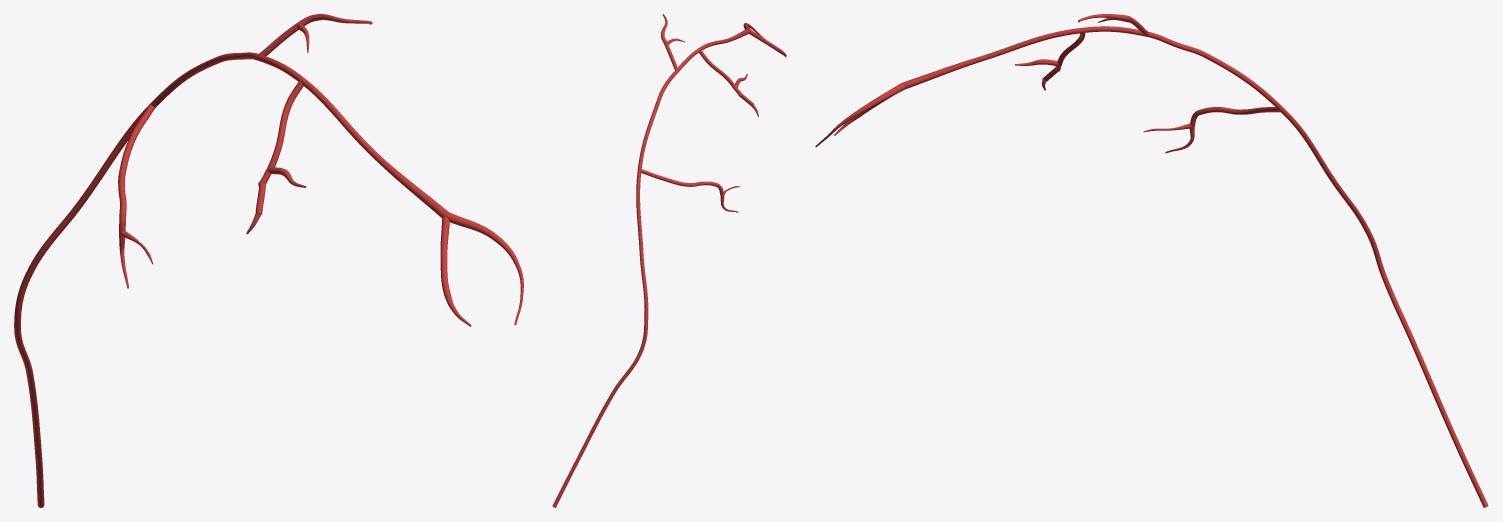
3 views of the same model, side by side, from view 1: azimuth 30°, elevation 25°; view 2: azimuth 150°, elevation 25°; view 3: azimuth 270°, elevation 25° (orthographic). The views are drawn at different scales.
Visible parts, largest first — view 1: 右侧枕动脉; view 2: 右侧枕动脉; view 3: 右侧枕动脉.
Boxes of the visible parts, x1,y1,x2,y2 form: 右侧枕动脉: [14, 14, 523, 507]; 右侧枕动脉: [552, 14, 786, 507]; 右侧枕动脉: [815, 14, 1488, 507].
Size of the model in its own units: 0.0474 by 0.1577 by 0.1869.
